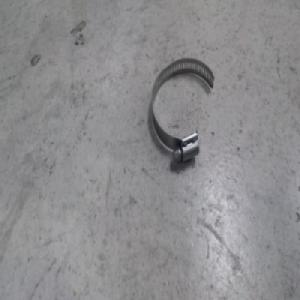AdjustableClamp: (149, 50, 218, 158)
